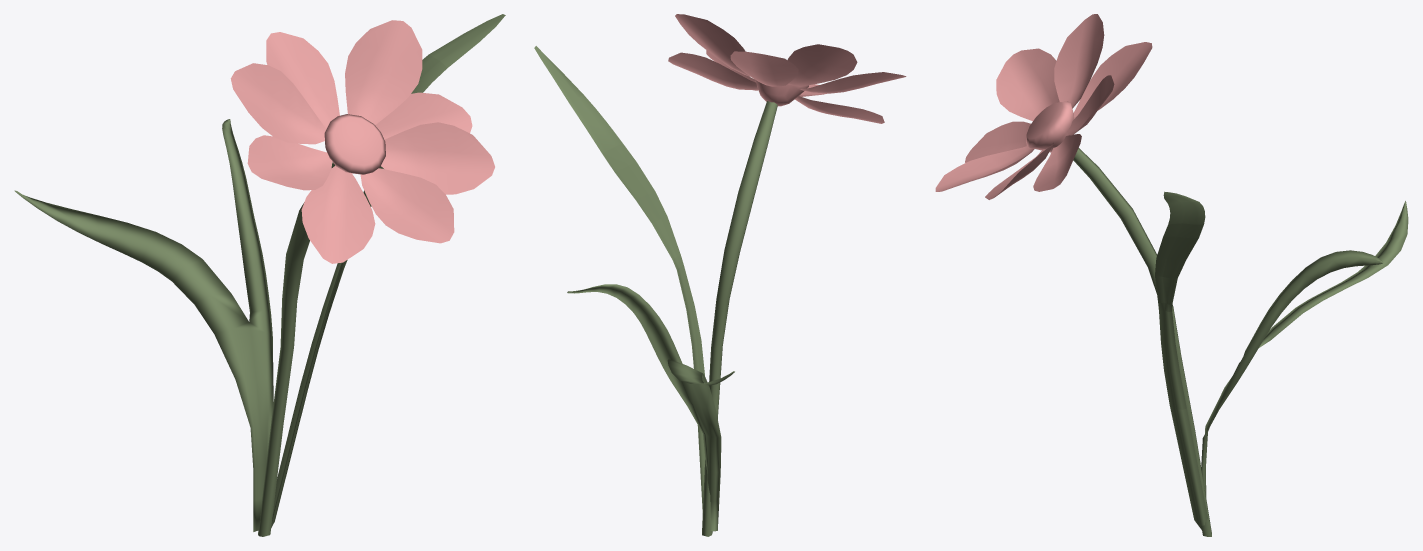
Rendered from PinkFlower_ForTerrain.fbx.
3 renders of one model, left to right at view 1: azimuth 30°, elevation 25°; view 2: azimuth 150°, elevation 25°; view 3: azimuth 270°, elevation 25°, orthographic. The views are drawn at different scales.
Visible parts, largest first — view 1: pPlane43; view 2: pPlane43; view 3: pPlane43.
Part boxes in pixels (<box>): pPlane43: <box>14,14,505,536</box>; pPlane43: <box>534,14,906,536</box>; pPlane43: <box>935,14,1408,536</box>.
Bounding box in the file's own units: 0.5219 × 0.742 × 0.6556.
